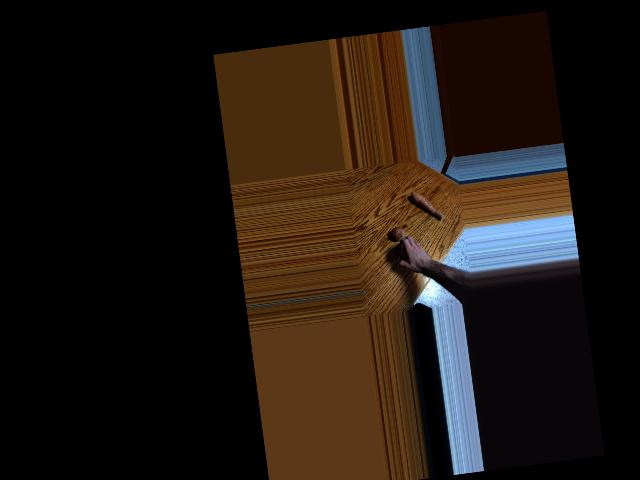onion: (393, 241, 410, 258)
